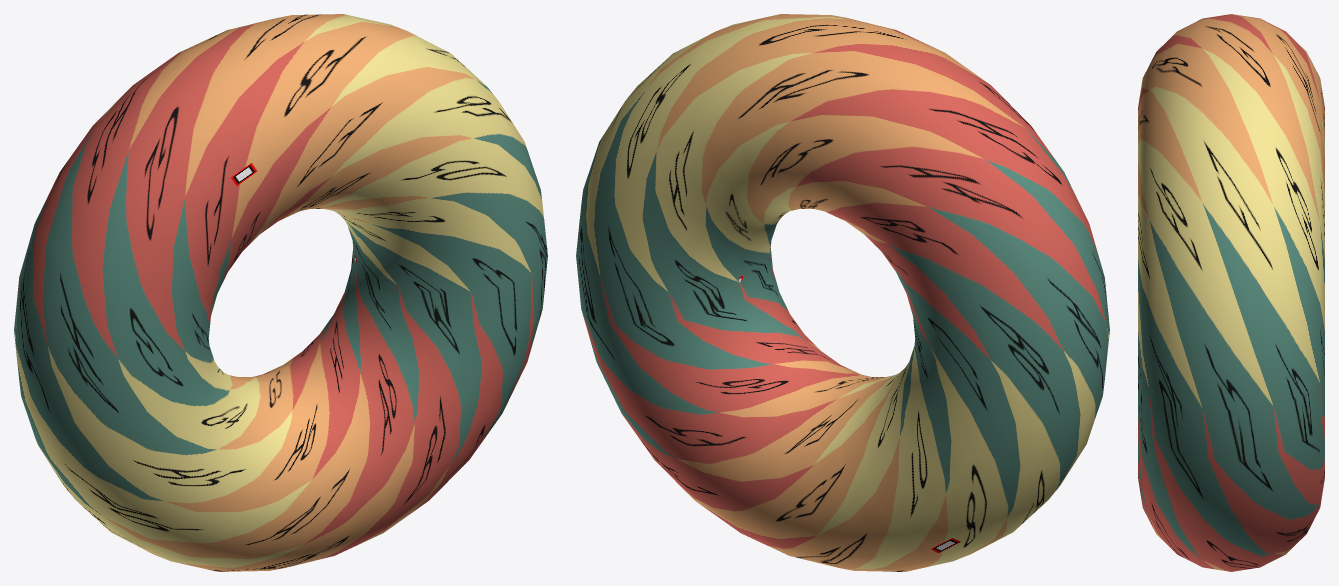
The model's file is uv_checkerboard_res_1024_iter_1.glb.
3 renders of one model, left to right at view 1: azimuth 30°, elevation 25°; view 2: azimuth 150°, elevation 25°; view 3: azimuth 270°, elevation 25°, orthographic. The views are drawn at different scales.
Visible parts, largest first — view 1: Node; view 2: Node; view 3: Node.
Boxes of the visible parts, box(x1,y1,x2,y2) form: Node: box(14, 14, 547, 571); Node: box(576, 14, 1109, 571); Node: box(1138, 14, 1324, 571).
Bounding box in the file's own units: 3 × 2.98 × 1.
Materials: 1 (1 with a texture image).
